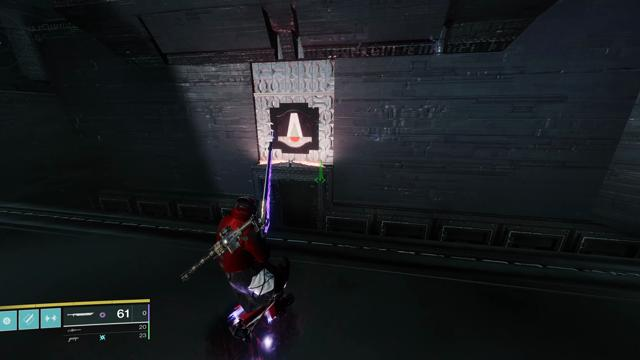enter: (277, 109, 314, 147)
